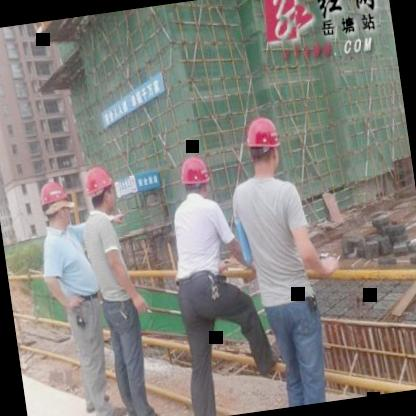helmet: (238, 108, 288, 180), (35, 177, 75, 233), (80, 162, 118, 214), (176, 151, 214, 203)
